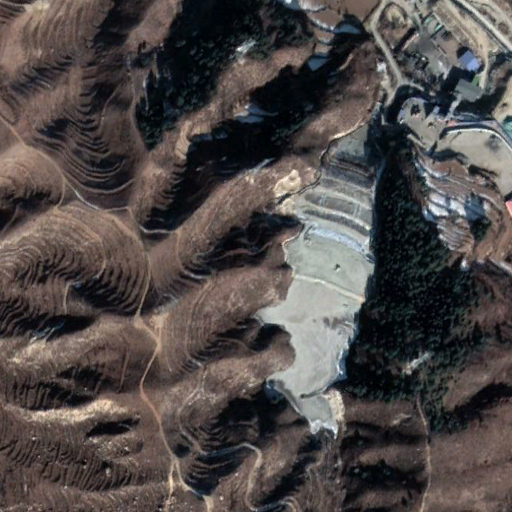tp: (253, 127, 381, 432)
